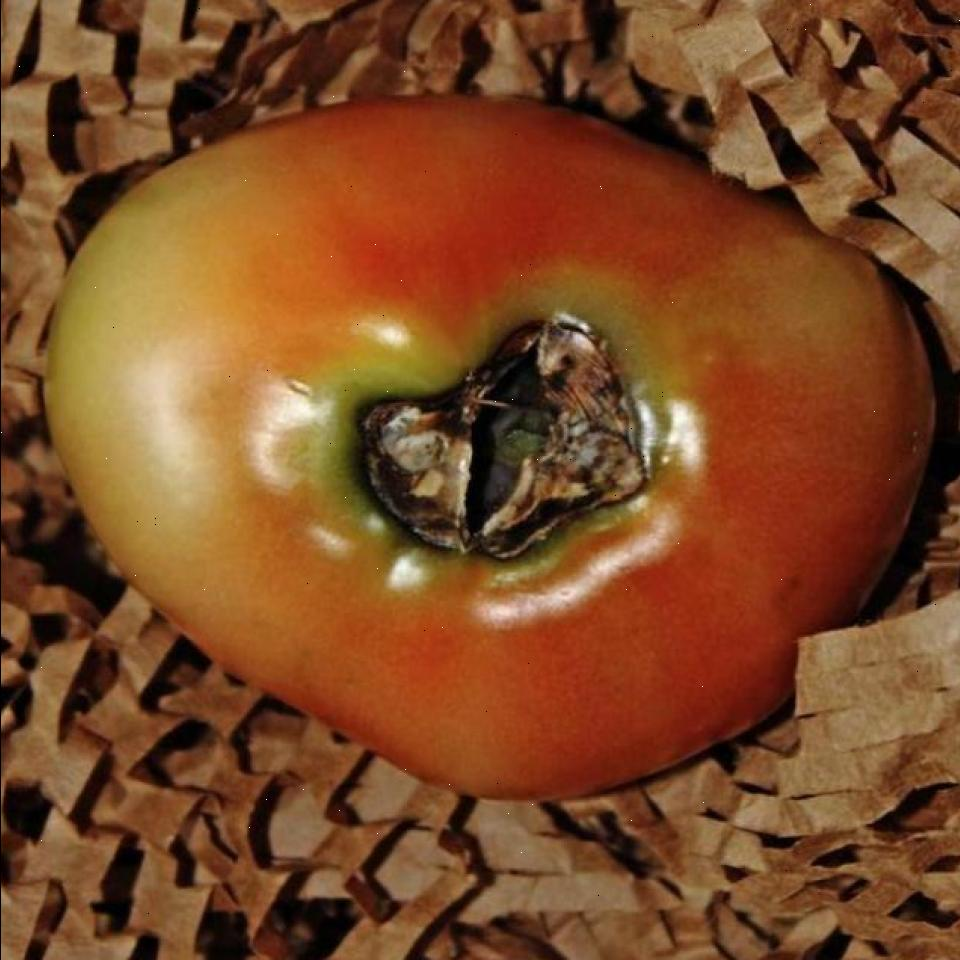Blossom_end_rot: (329, 276, 691, 608)
